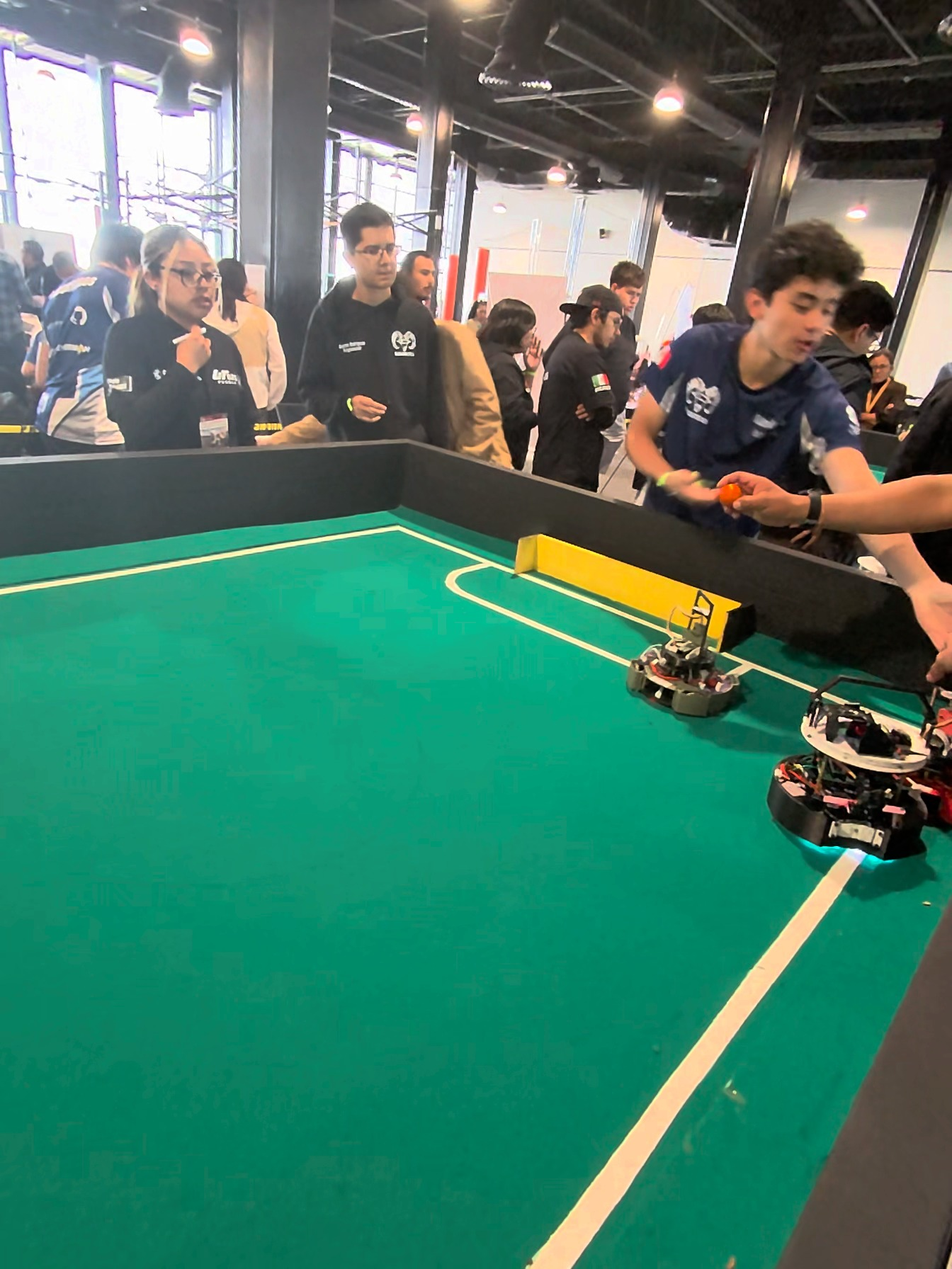Robot: (770, 653, 951, 884), (621, 598, 744, 727)
